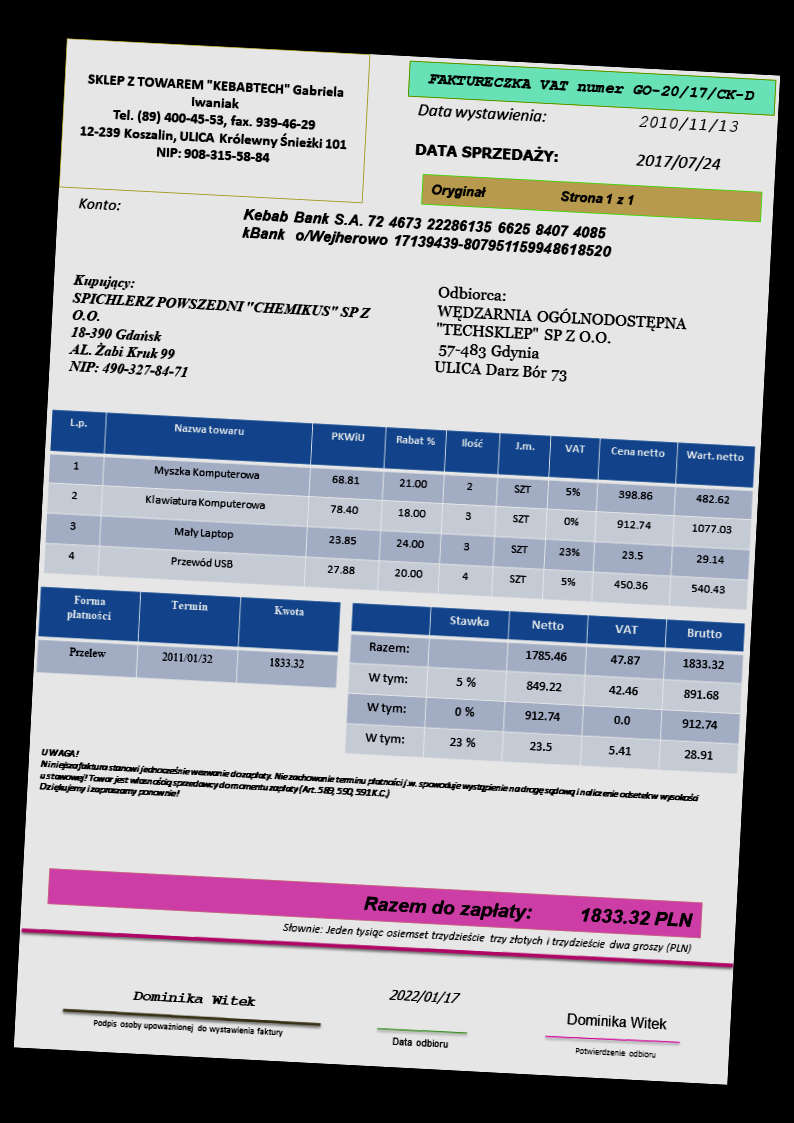Table: (40, 405, 757, 611), (342, 601, 746, 775), (35, 585, 340, 689)
TextBox: (35, 743, 700, 829), (66, 271, 375, 393), (431, 279, 692, 395), (77, 66, 355, 173), (238, 202, 616, 264), (280, 918, 696, 956), (359, 891, 697, 933), (424, 69, 762, 103), (427, 180, 637, 211), (89, 1015, 285, 1040), (412, 137, 561, 166), (416, 98, 548, 126), (129, 987, 260, 1011), (564, 1008, 672, 1033), (638, 110, 740, 135), (633, 149, 721, 175), (387, 982, 467, 1009), (573, 1043, 658, 1064), (74, 192, 126, 217), (387, 1034, 450, 1052)
